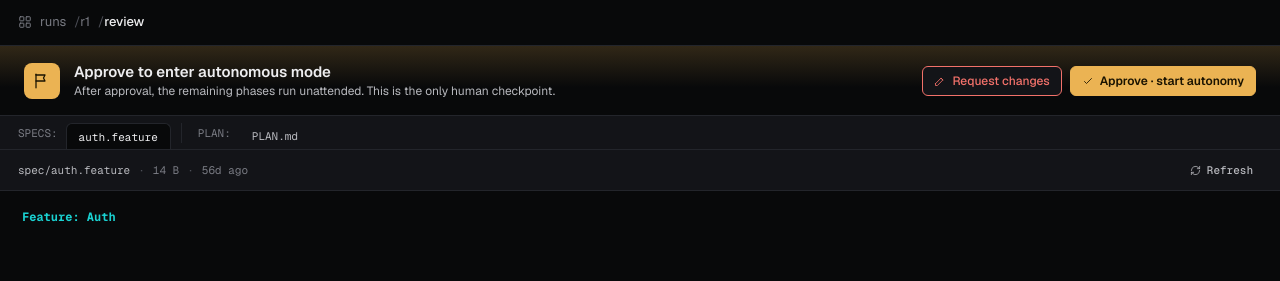
Test: ReviewGate › shows the drift banner after Refresh reports drifted:true
Click the button "Refresh" at (1221, 170), box [1181,158,1262,182]
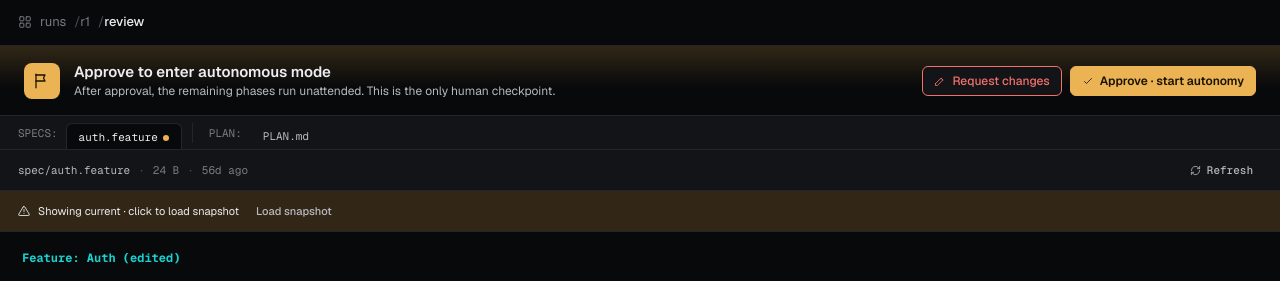
Expected: the text "Showing current · click to load snapshot" is shown, [38,204,239,218]
